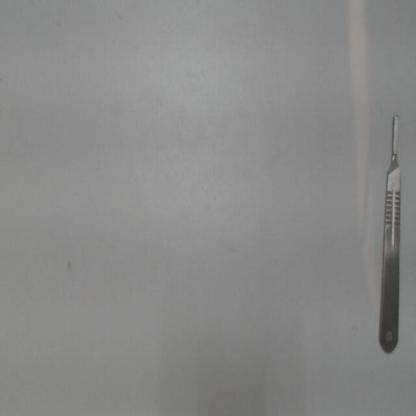No.4 BP Handle: (378, 111, 407, 362)
